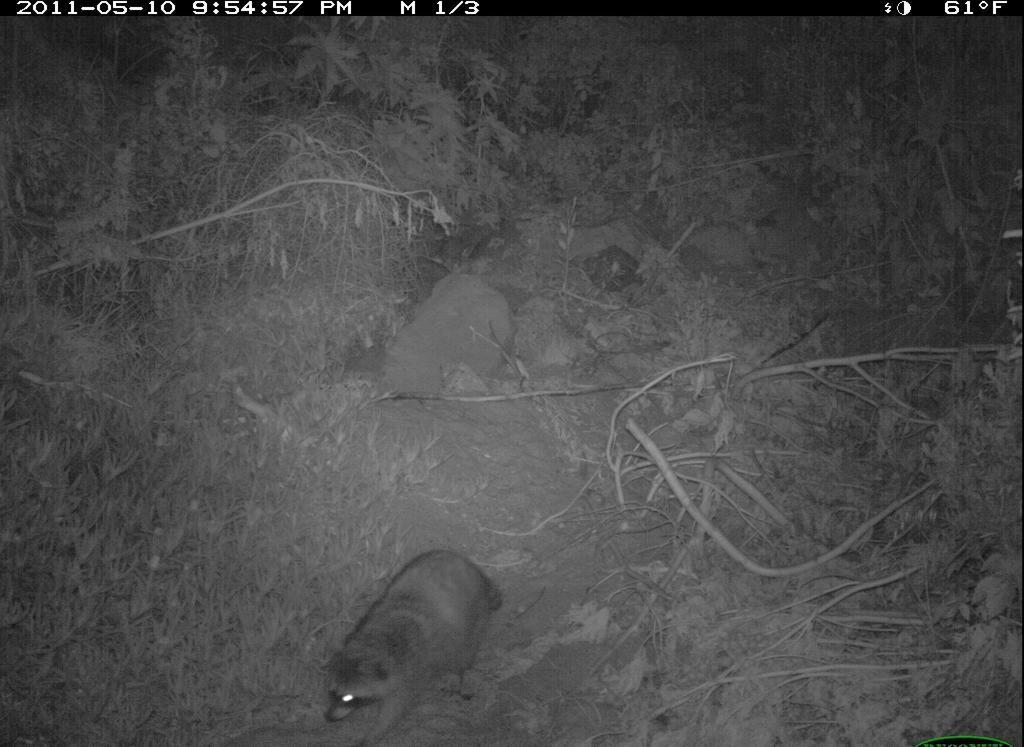raccoon: (303, 536, 527, 745)
